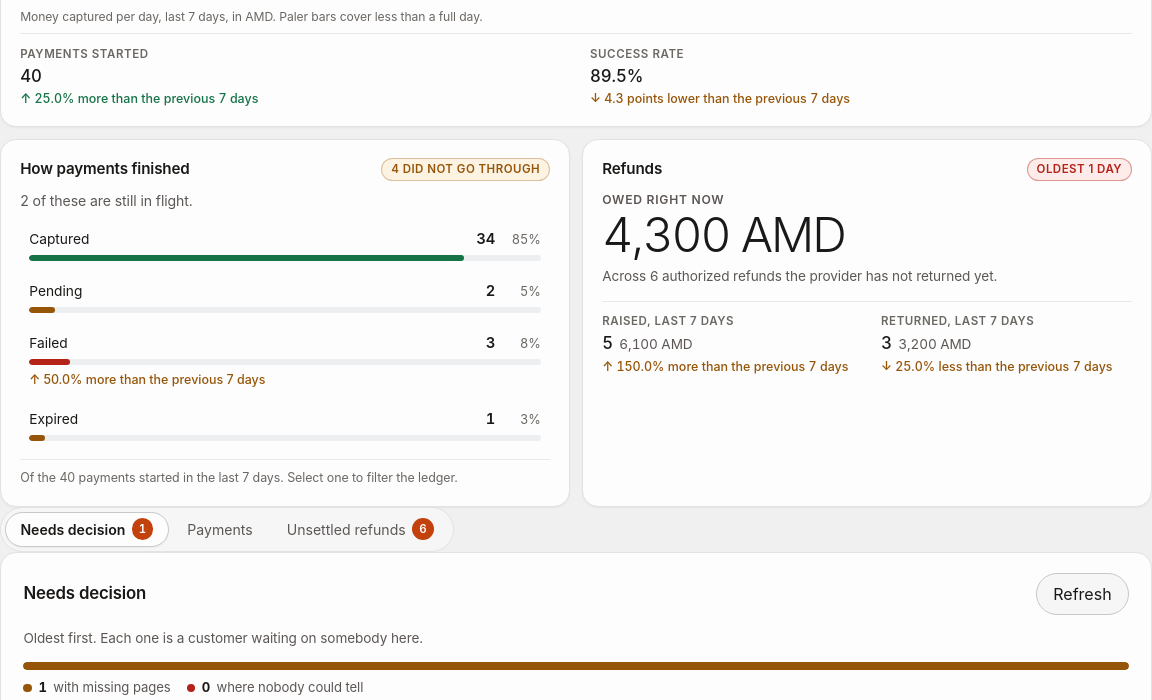
Test: the money page › makes a status in the window a way into those rows in the ledger
This screenshot has width=1152, height=700.
(page scrolled)
Click the button with aria-label "Failed: 3, 8% of 40.": [285, 360] box [20,324,550,397]
(page scrolled)
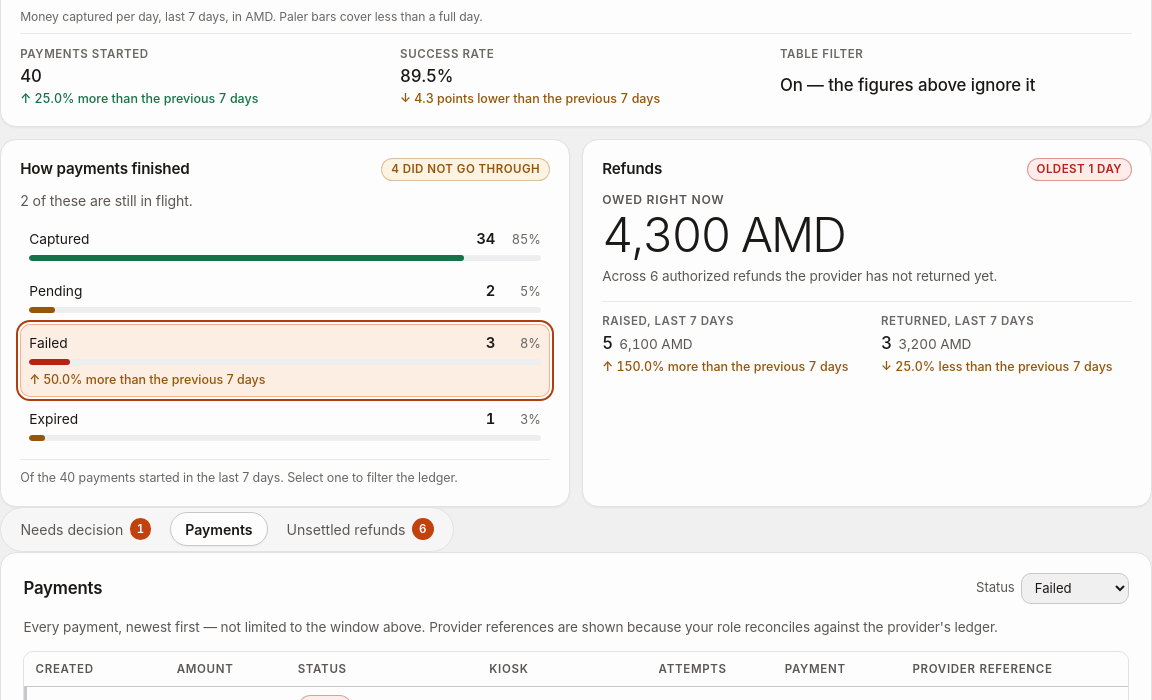
expect the heading "Payments" is shown: met, box [23,576,102,601]
expect the dropdown labelled "Status" shows "Failed": met, box [1021,573,1129,604]
expect the text "not limited to the window above" is shown: met, box [23,619,425,635]
